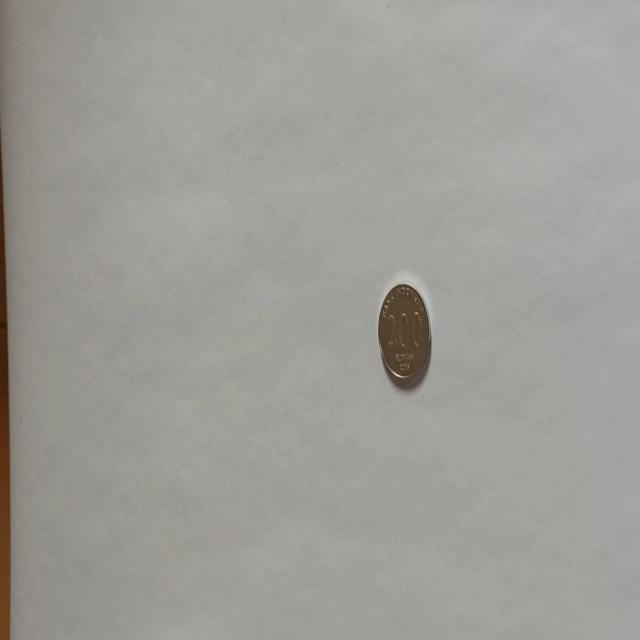dua ratus rupiah: (376, 280, 432, 386)
